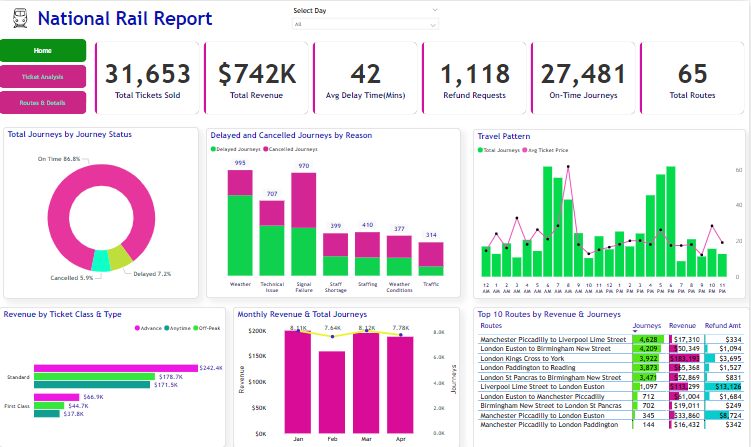

What the dashboard file says about the page in this screenshot:
{"tool":"powerbi","page":{"name":"Home","canvas":[1500,900],"ordinal":0},"visuals":[{"type":"textbox","box":[72.5,7.5,416.2,55],"z":0},{"type":"cardVisual","fields":{"Data":["railway.Total Tickets Sold","railway.Total Revenue","railway.Avg Delay Time(Mins)","railway.Refund Requests","railway.On-Time Journeys","railway.Total Routes"]},"box":[186.7,75,1313.3,156.7],"z":1000},{"type":"columnChart","title":"Delayed and Cancelled Journeys by Reason","fields":{"Category":["railway.Reason for Delay"],"Y":["railway.Delayed Journeys","railway.Cancelled Journeys"]},"box":[414.3,254.3,508.6,340],"z":2000},{"type":"donutChart","fields":{"Category":["railway.Journey Status"],"Y":["railway.Total Journeys"]},"box":[7.1,251.4,391.4,342.9],"z":3000},{"type":"lineClusteredColumnComboChart","title":"Travel Pattern","fields":{"Category":["railway.Hour(AM/PM)"],"Y":["railway.Total Journeys"],"Y2":["railway.Avg Ticket Price"]},"box":[947.1,255.7,545.7,340],"z":4000},{"type":"clusteredBarChart","title":"Revenue by Ticket Class & Type","fields":{"Category":["railway.Ticket Class"],"Series":["railway.Ticket Type"],"Y":["railway.Total Revenue"]},"box":[0,612.9,454.3,281.4],"z":5000},{"type":"lineClusteredColumnComboChart","title":"Monthly Revenue & Total Journeys","fields":{"Category":["Date Table Journey.Month Name"],"Y":["railway.Total Revenue"],"Y2":["railway.Total Journeys"]},"box":[468.6,612.9,454.3,282.9],"z":6000},{"type":"tableEx","title":"Top 10 Routes by Revenue & Journeys","fields":{"Values":["railway.Routes","railway.Total Journeys","railway.Total Revenue","railway.Total Refund Amount"]},"box":[947,611,553,286],"z":7000},{"type":"slicer","fields":{"Values":["Date Table Journey.Day Name"]},"box":[575,5,313.8,61.2],"z":9000},{"type":"image","box":[16.2,10,53.8,48.8],"z":10000},{"type":"pageNavigator","box":[0,75,175,150],"z":10001}]}

Visuals, with their boxes in screenshot pixels (x1, y1, x2, y2), scaled from the page's 1500x900 canvas onto the 751x447 screenshot:
textbox: (left=36, top=4, right=245, bottom=31)
cardVisual - railway.Total Tickets Sold x railway.Total Revenue: (left=93, top=37, right=750, bottom=115)
"Delayed and Cancelled Journeys by Reason" columnChart: (left=207, top=126, right=462, bottom=295)
donutChart - railway.Journey Status x railway.Total Journeys: (left=4, top=125, right=200, bottom=295)
"Travel Pattern" lineClusteredColumnComboChart: (left=474, top=127, right=747, bottom=296)
"Revenue by Ticket Class & Type" clusteredBarChart: (left=0, top=304, right=227, bottom=444)
"Monthly Revenue & Total Journeys" lineClusteredColumnComboChart: (left=235, top=304, right=462, bottom=445)
"Top 10 Routes by Revenue & Journeys" tableEx: (left=474, top=303, right=750, bottom=446)
slicer - Date Table Journey.Day Name: (left=288, top=2, right=445, bottom=33)
image: (left=8, top=5, right=35, bottom=29)
pageNavigator: (left=0, top=37, right=88, bottom=112)
